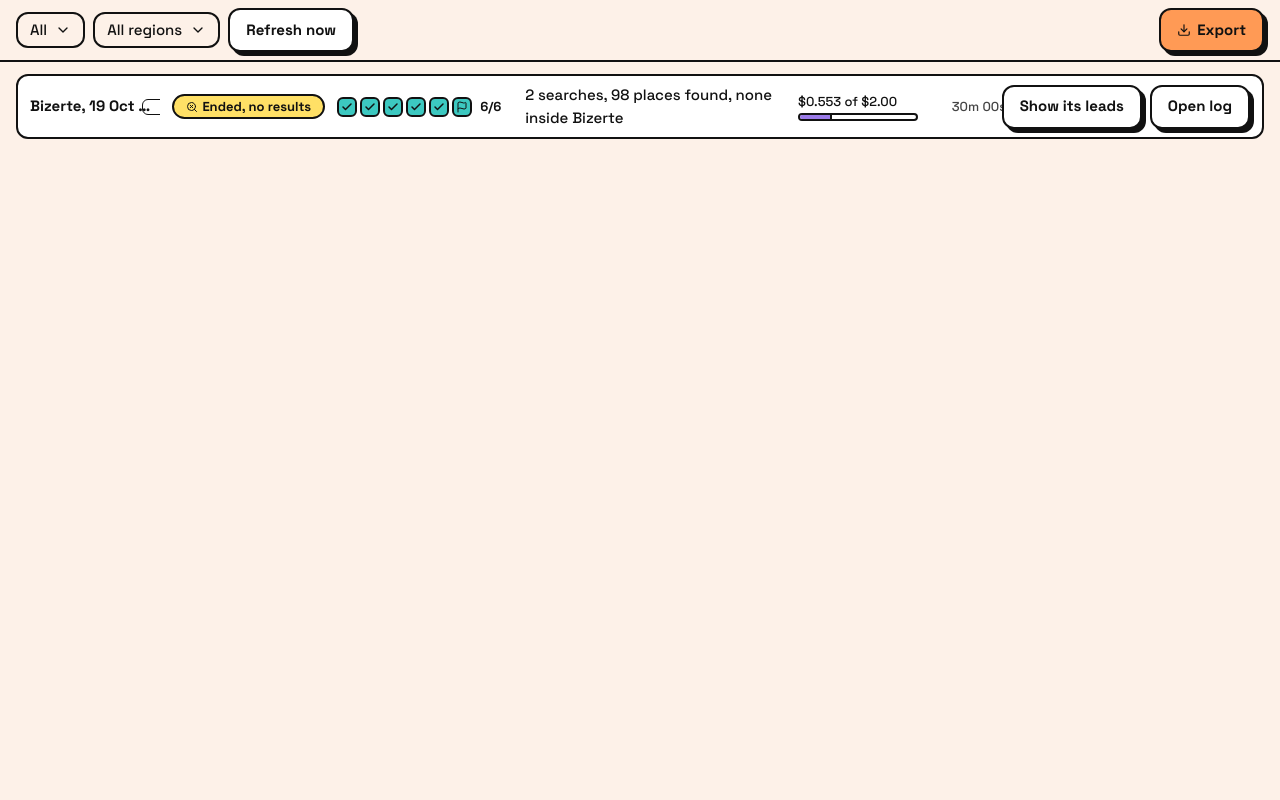
Test: Logs view › opens the whole log in a window, closes it with Escape and gives focus back
Click the button with aria-label "Open log for Bizerte, 19 Oct". click: click(1200, 106)
box: x1=1150 y1=84 x2=1250 y2=128
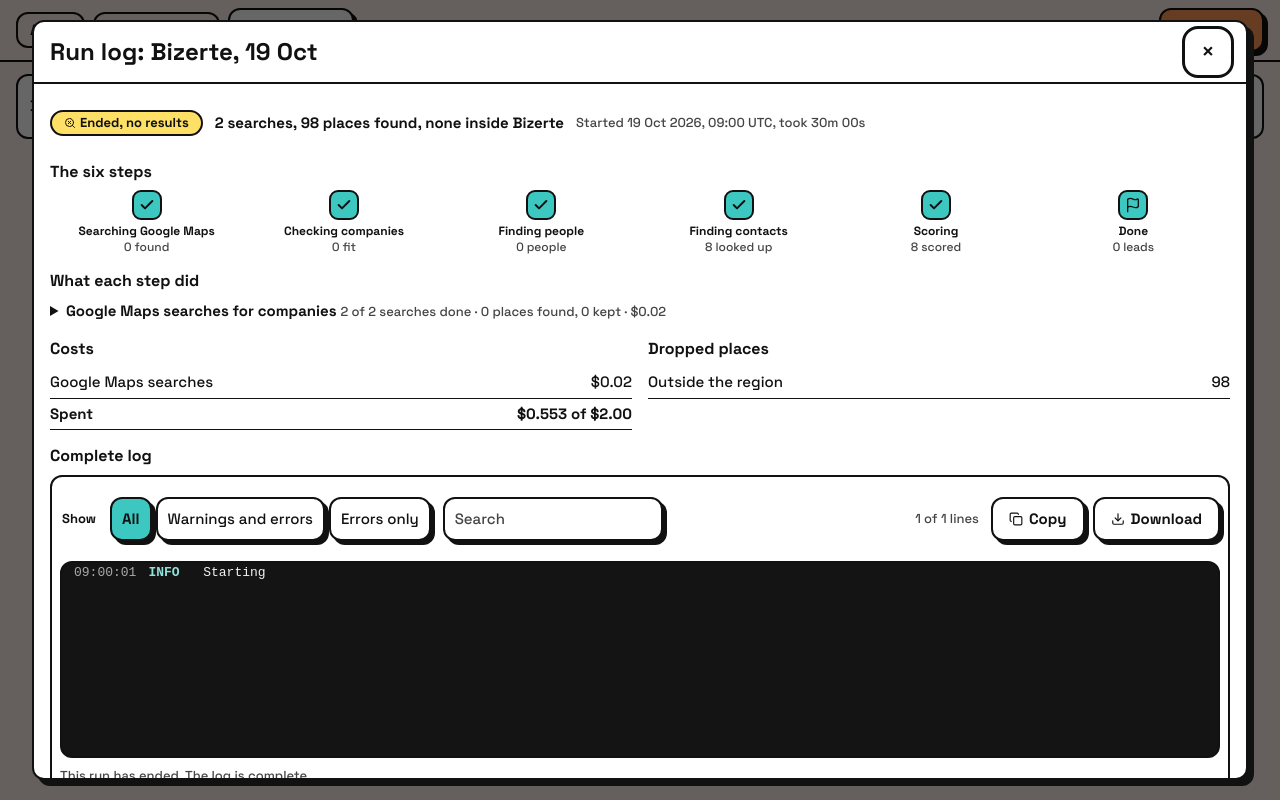
Expected: the heading "The six steps" is shown, x1=50 y1=160 x2=152 y2=182
Expected: the heading "What each step did" is shown, x1=50 y1=270 x2=199 y2=291
Expected: the heading "Costs" is shown, x1=50 y1=338 x2=94 y2=359
Press Escape
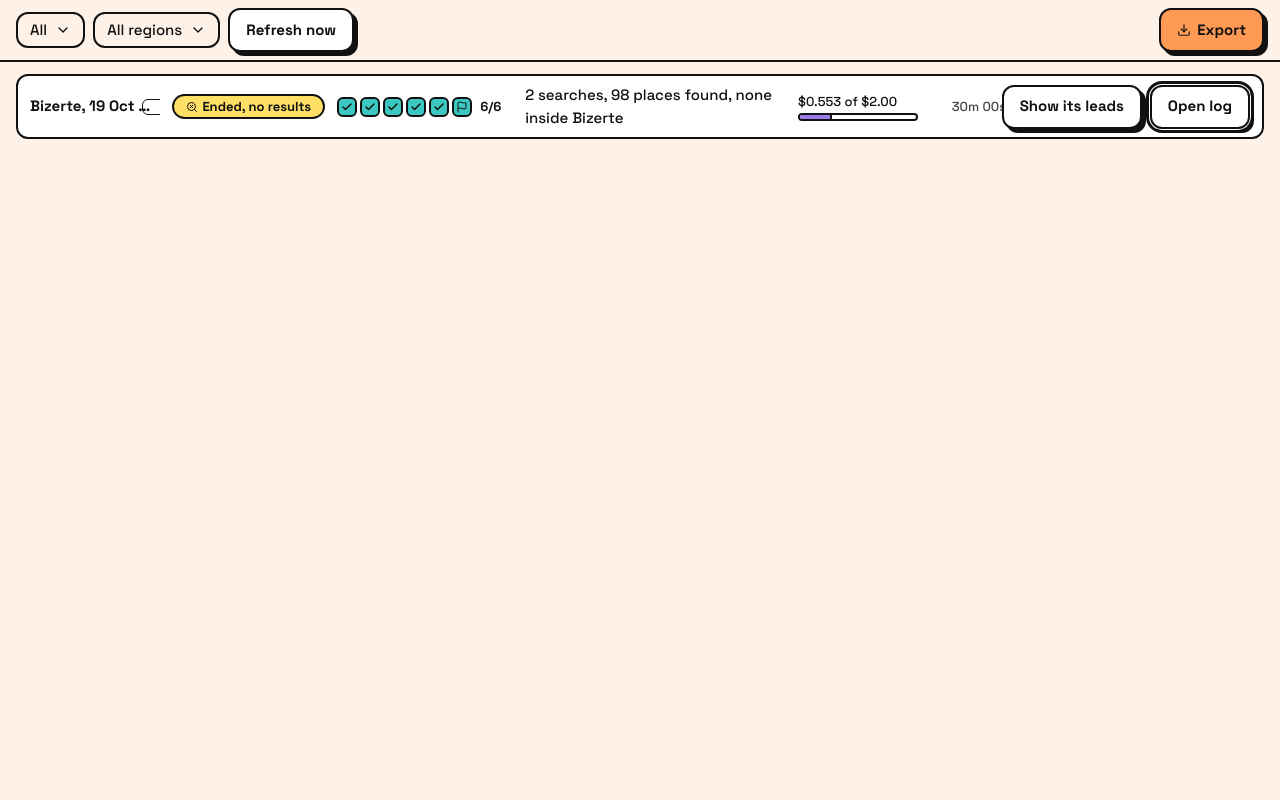
Expected: the dialog is gone
